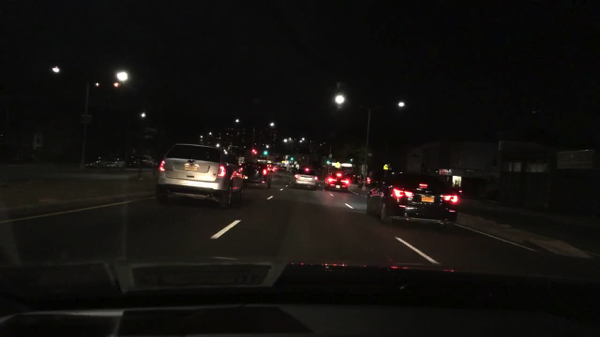bus: (211, 144, 246, 169)
car: (155, 142, 244, 206), (365, 170, 459, 227), (243, 161, 272, 188), (291, 167, 319, 190), (323, 169, 350, 190), (357, 175, 381, 189), (128, 154, 153, 166), (105, 157, 127, 168), (84, 158, 104, 168), (142, 158, 161, 168), (279, 163, 287, 172), (266, 163, 273, 173), (271, 164, 279, 172), (288, 167, 296, 175), (287, 163, 296, 167)
traffic light: (250, 148, 257, 154), (326, 158, 331, 165), (263, 151, 268, 157), (289, 157, 294, 161)
traffic sign: (81, 113, 93, 125), (382, 163, 389, 169)
